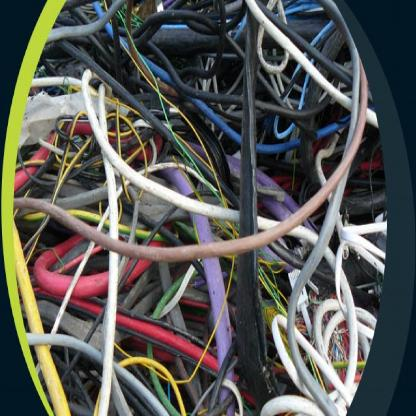wires: (13, 0, 387, 415)
